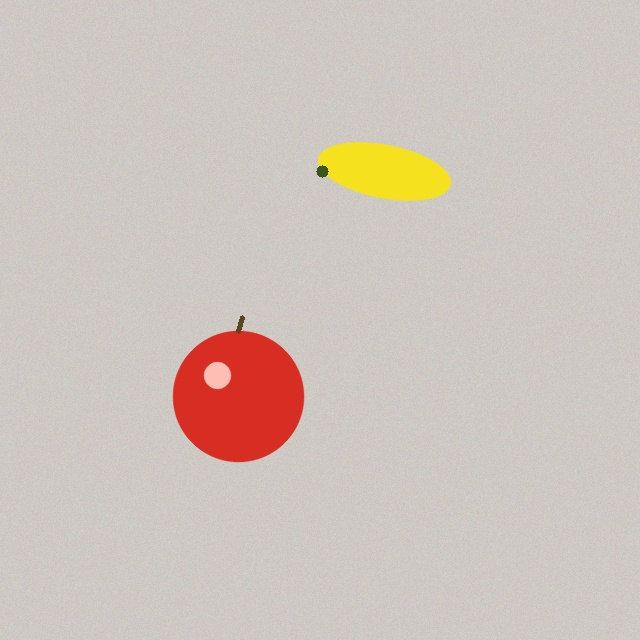Fresh apple: (173, 317, 303, 461)
Fresh banana: (314, 139, 454, 203)
